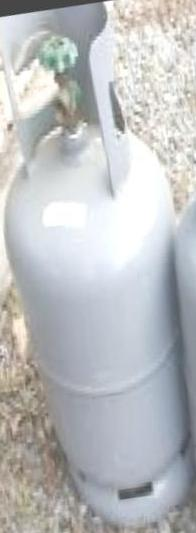cylinder: (1, 1, 196, 533)
